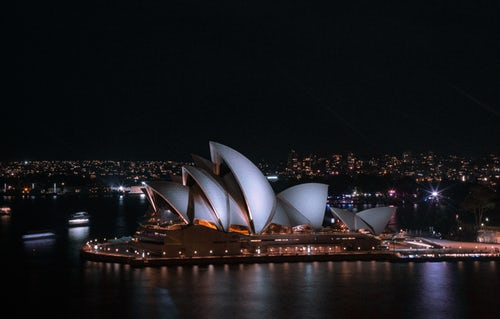opera house: (90, 126, 410, 265)
